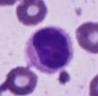M: (24, 25, 74, 74)
